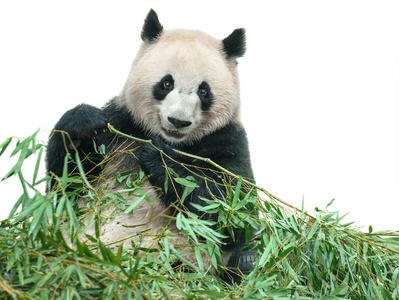panda: (44, 2, 267, 281)
